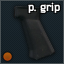PP-19-01 Vityaz-SN pistol grip: (0, 0, 64, 64)
